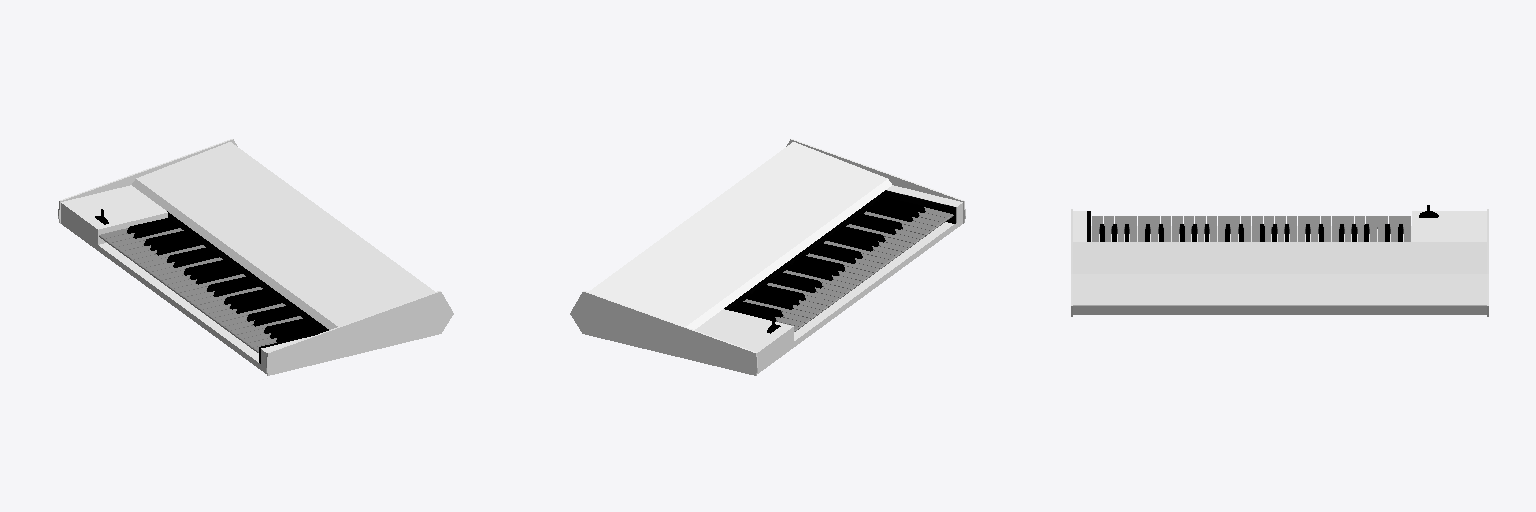
File: JUPITER-8.obj
3 renders of one model, left to right at view 1: azimuth 30°, elevation 25°; view 2: azimuth 150°, elevation 25°; view 3: azimuth 270°, elevation 25°, orthographic.
Visible parts, largest first — view 1: cube134, cube134_copy117, 100_sep43, 100_copy136, cube134_sep116, 100_sep41; view 2: cube134, cube134_sep116, 100_sep43, 100_copy136, cube134_copy117, 100_sep41, 100_copy137, 100_copy135; view 3: cube134, 100_sep43.
Boxes of the visible parts, x1=… form: cube134: x1=132, y1=142, x2=434, y2=329; cube134_copy117: x1=266, y1=291, x2=453, y2=375; 100_sep43: x1=61, y1=185, x2=167, y2=244; 100_copy136: x1=61, y1=219, x2=266, y2=373; cube134_sep116: x1=58, y1=139, x2=237, y2=223; 100_sep41: x1=167, y1=211, x2=328, y2=331; cube134: x1=589, y1=142, x2=891, y2=329; cube134_sep116: x1=570, y1=291, x2=757, y2=375; 100_sep43: x1=695, y1=309, x2=793, y2=367; 100_copy136: x1=757, y1=219, x2=962, y2=373; cube134_copy117: x1=786, y1=139, x2=965, y2=223; 100_sep41: x1=724, y1=191, x2=884, y2=310; 100_copy137: x1=887, y1=185, x2=962, y2=222; 100_copy135: x1=884, y1=190, x2=955, y2=223; cube134: x1=1073, y1=242, x2=1486, y2=314; 100_sep43: x1=1412, y1=211, x2=1486, y2=241.
Size of the model in its own units: 1953 by 425 by 3766.